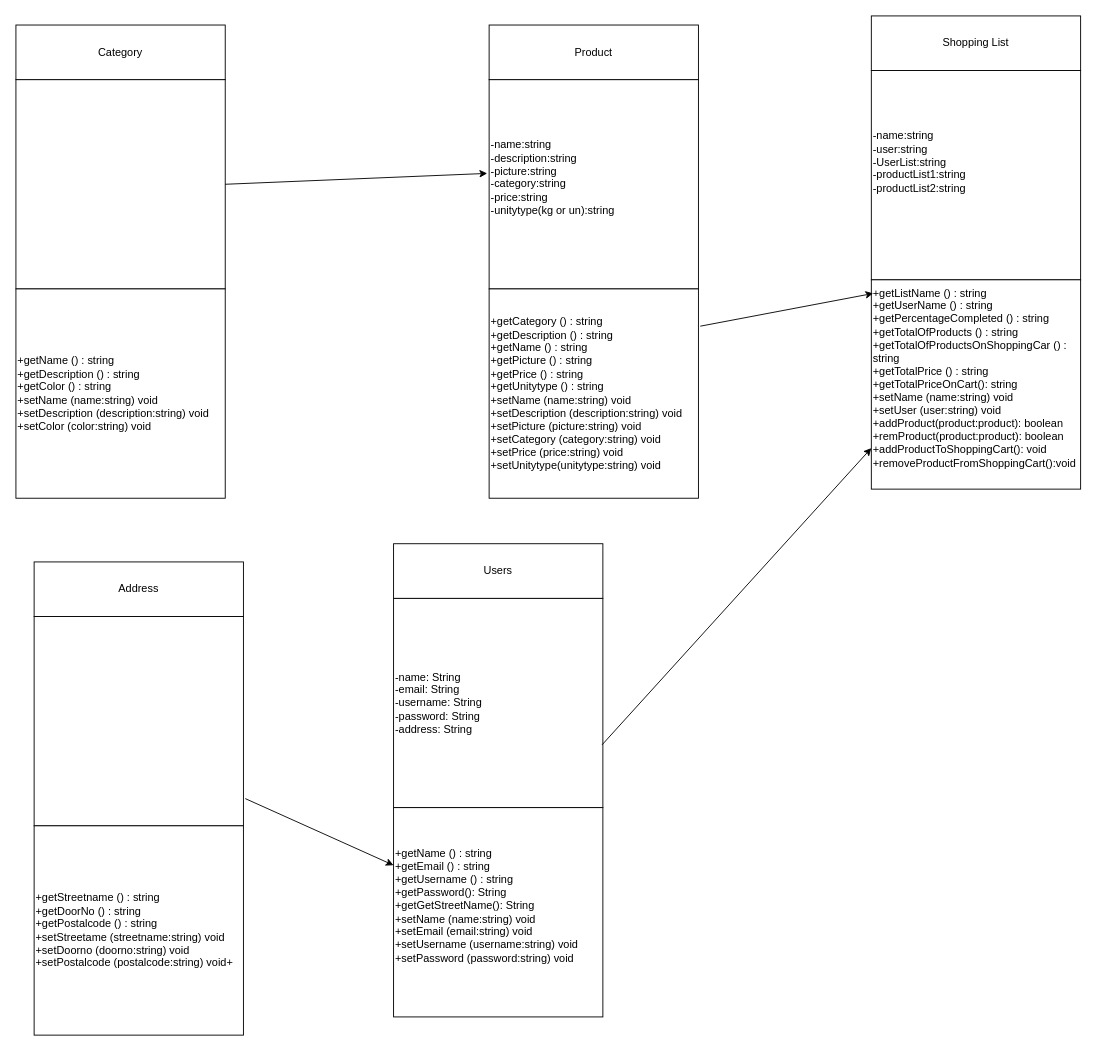
The diagram is 1097 pixels wide and 1051 high, and some of its shapes have lost their labels. Here are the shapes that lost their labels. From the top down, the centre of each, then its label:
At (x=120, y=184): "-name: String -description: String -color: String".
At (x=138, y=721): "-streetname:string -doorNo:string -postalcode:string".
